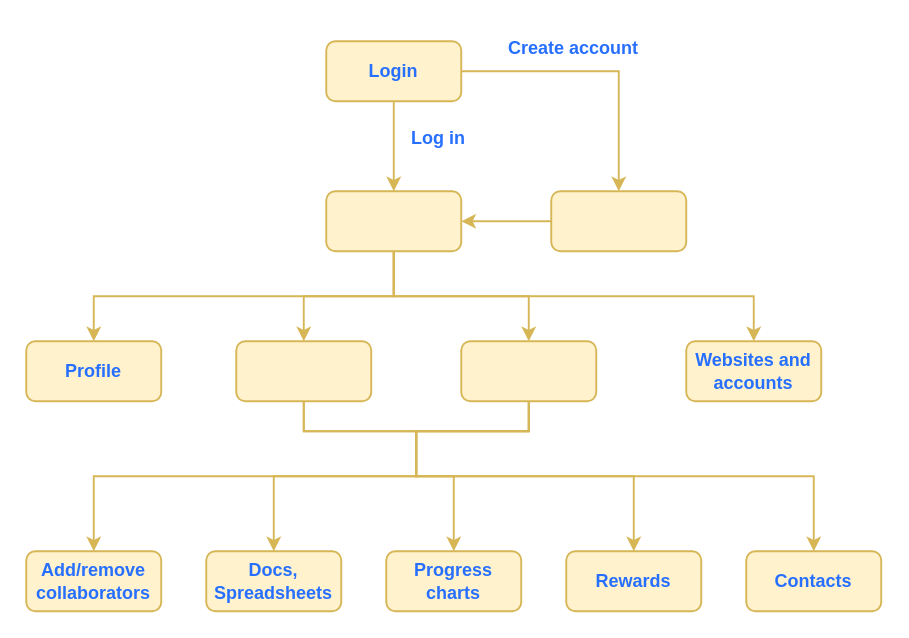
Some shapes in this 909 by 638 pixel diagram are drawn without their labels. The shapes that lost their labels are listed below. From the top down, each one's centre as x and y in pixels, then its label:
At (393,221): "Home".
At (618,221): "Register".
At (303,371): "Create/Join project".
At (528,371): "Visit recent projects".
